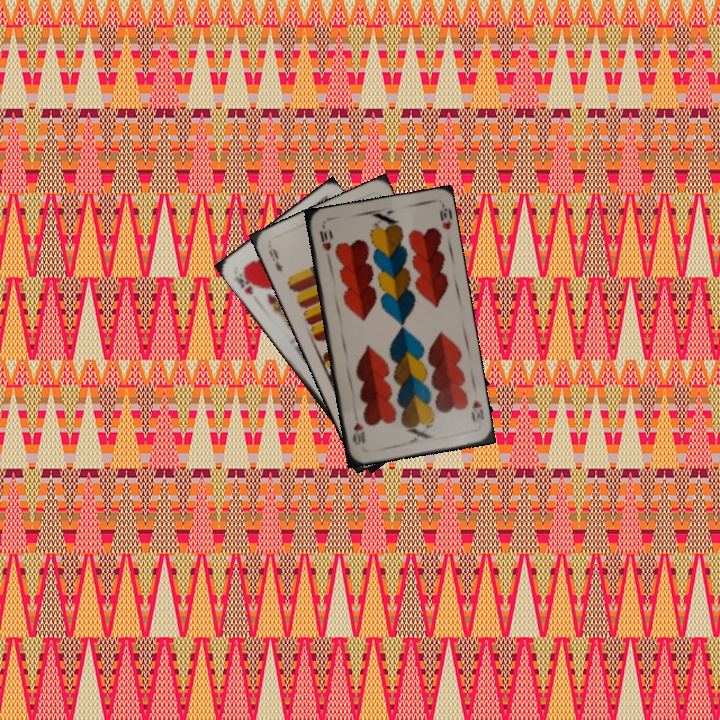E9: (265, 242, 285, 274)
H10: (467, 396, 486, 428), (316, 227, 334, 253)
HK: (230, 267, 257, 297)
